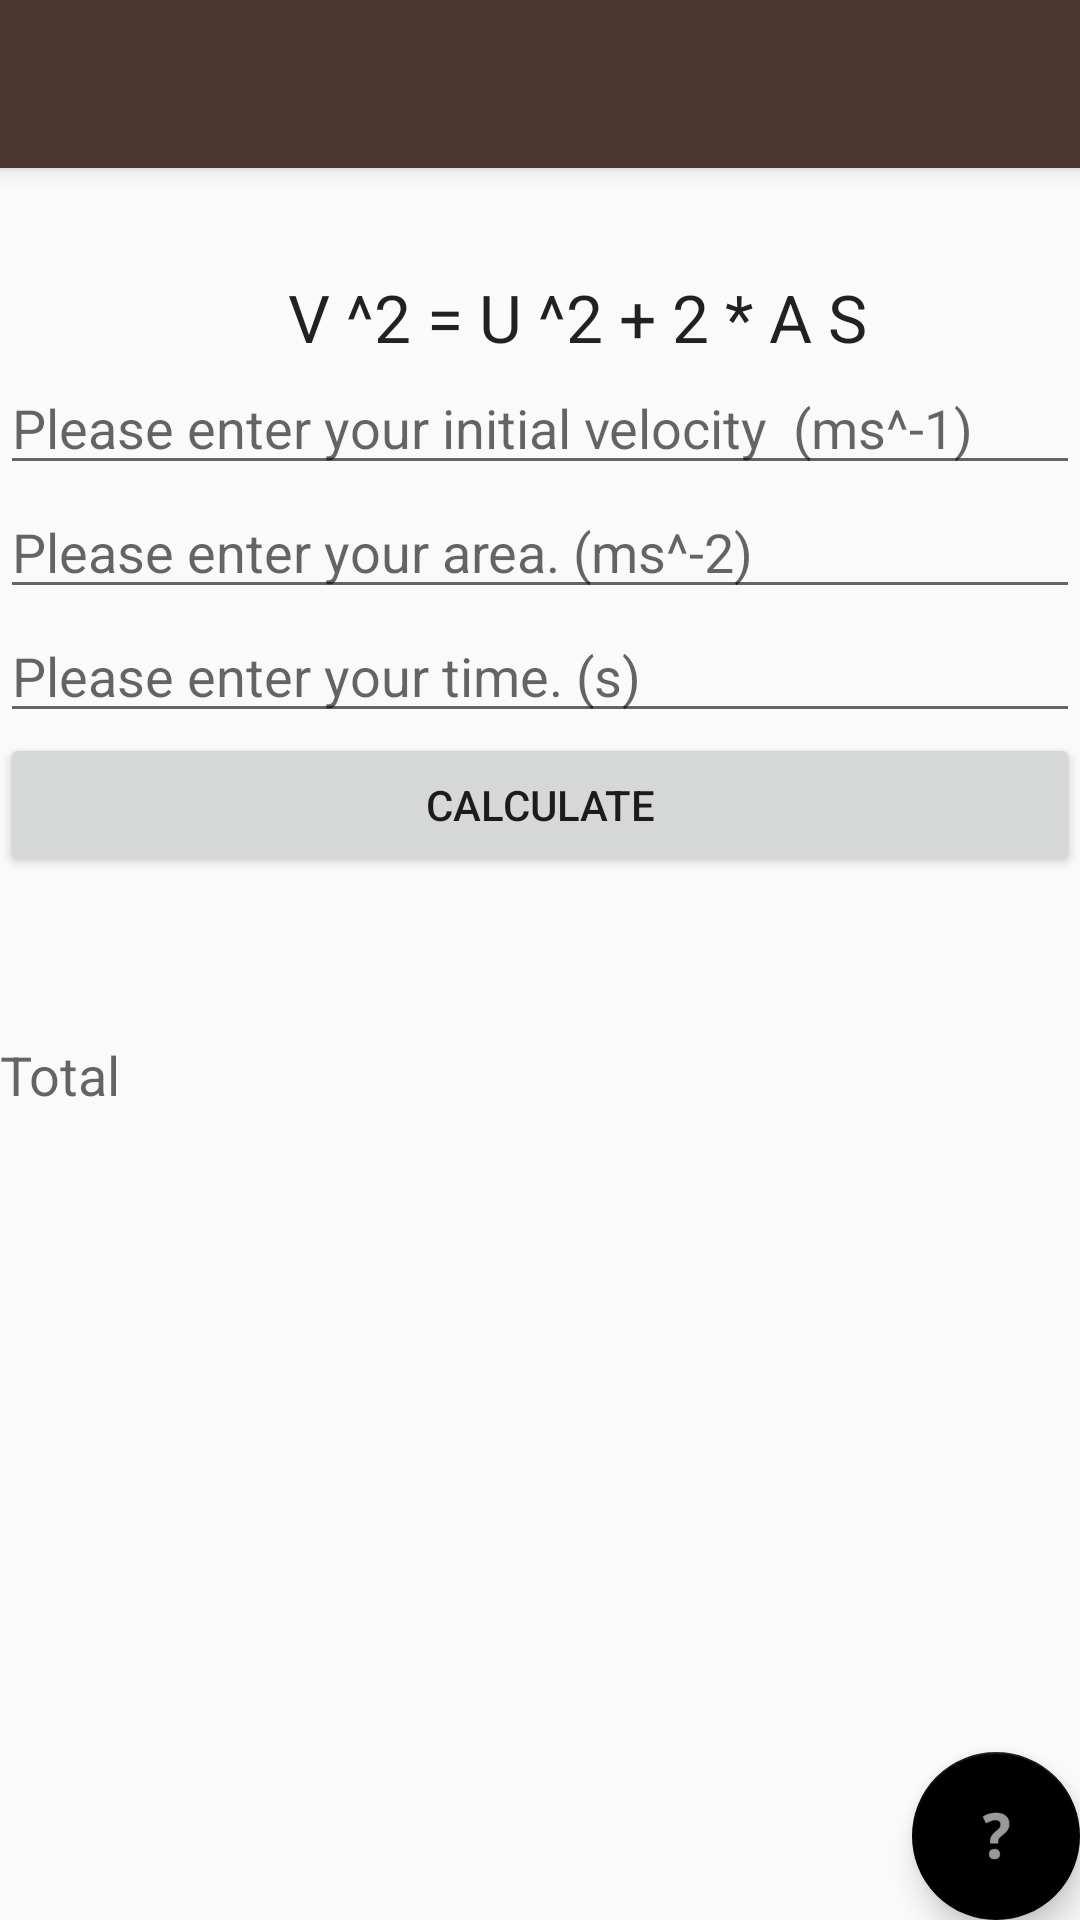

Named icons in this screenshot (1080x1920) and their centers, point (x, y):
help: point (996, 1836)
